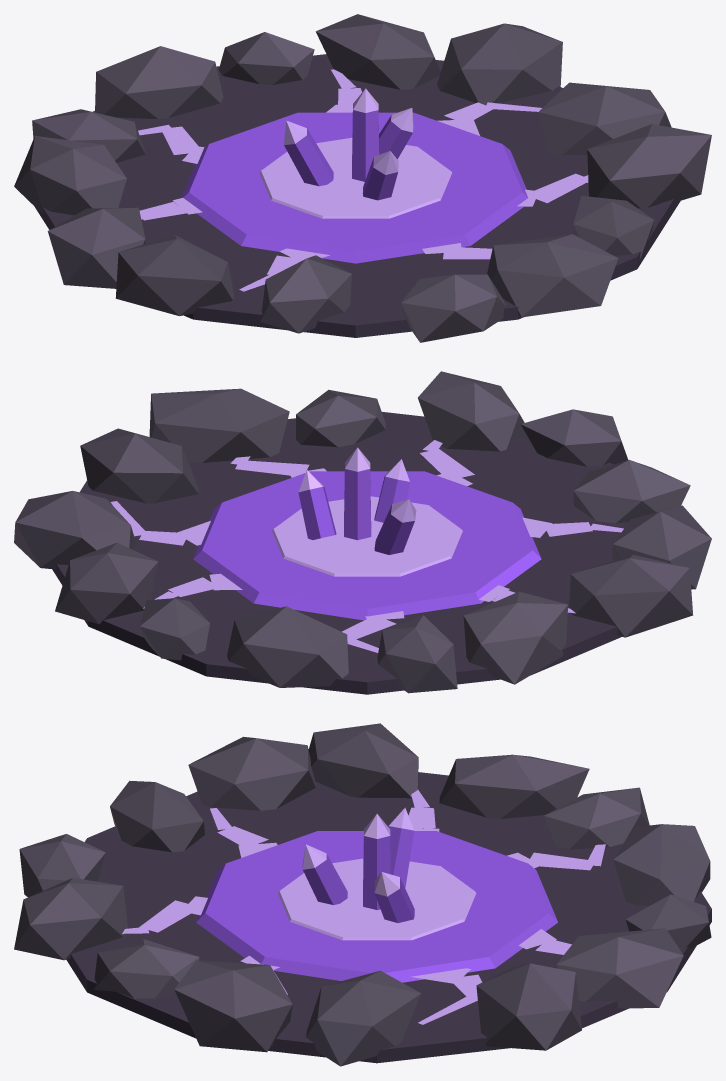
Rendered from aether_vent.glb.
The picture shows the model from 3 angles, top to bottom: view 1: azimuth 30°, elevation 25°; view 2: azimuth 150°, elevation 25°; view 3: azimuth 270°, elevation 25°; orthographic projection. The views are drawn at different scales.
Visible parts, largest first — view 1: aether_vent; view 2: aether_vent; view 3: aether_vent.
Boxes of the visible parts, x1,y1,x2,y2 form: aether_vent: (14, 14, 711, 342); aether_vent: (14, 371, 711, 694); aether_vent: (14, 723, 711, 1066).
Bounding box in the file's own units: 3.08 × 0.53 × 2.96.
1 material, 1 textured.
